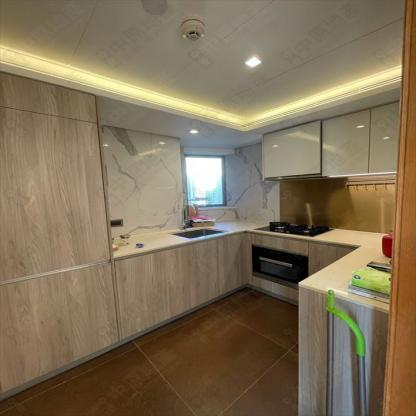Cupboard: (0, 71, 243, 395), (261, 103, 400, 178)
Exhaust Hood: (265, 172, 329, 180)
Faucet: (180, 207, 188, 227)
Oven: (251, 244, 309, 290)
Sink: (166, 227, 227, 239)
Stove: (253, 221, 333, 237)
